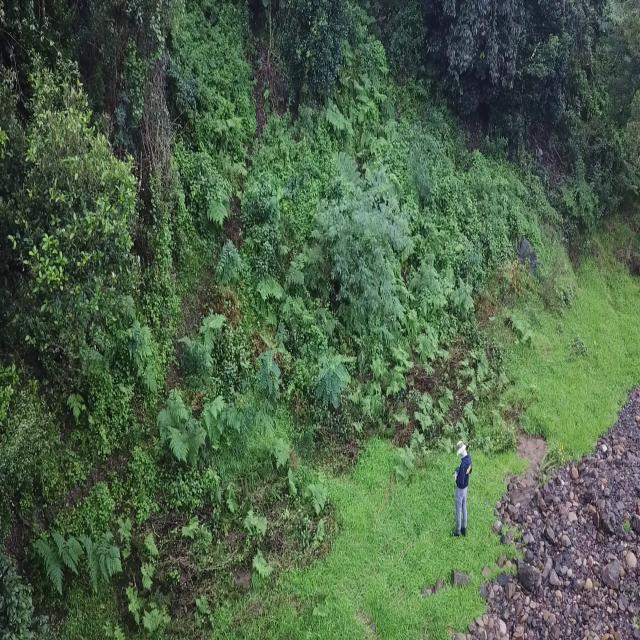Mysore-Thorn-Weed: (310, 344, 346, 414), (257, 350, 285, 394)
